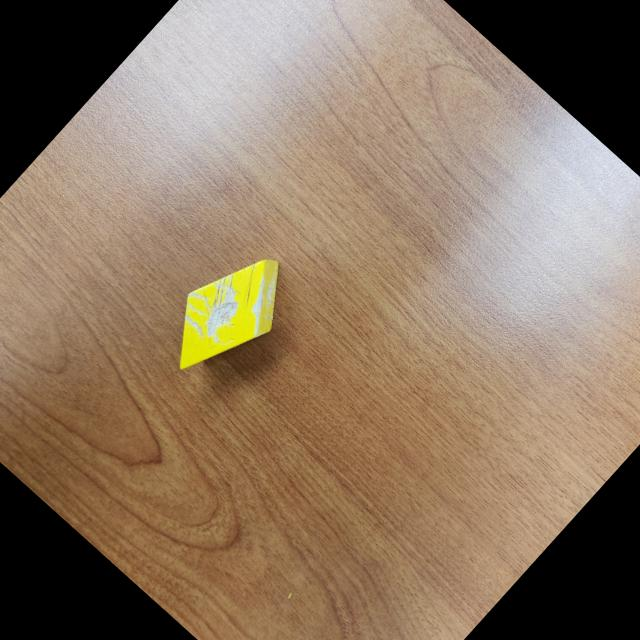broken: (144, 232, 306, 398)
